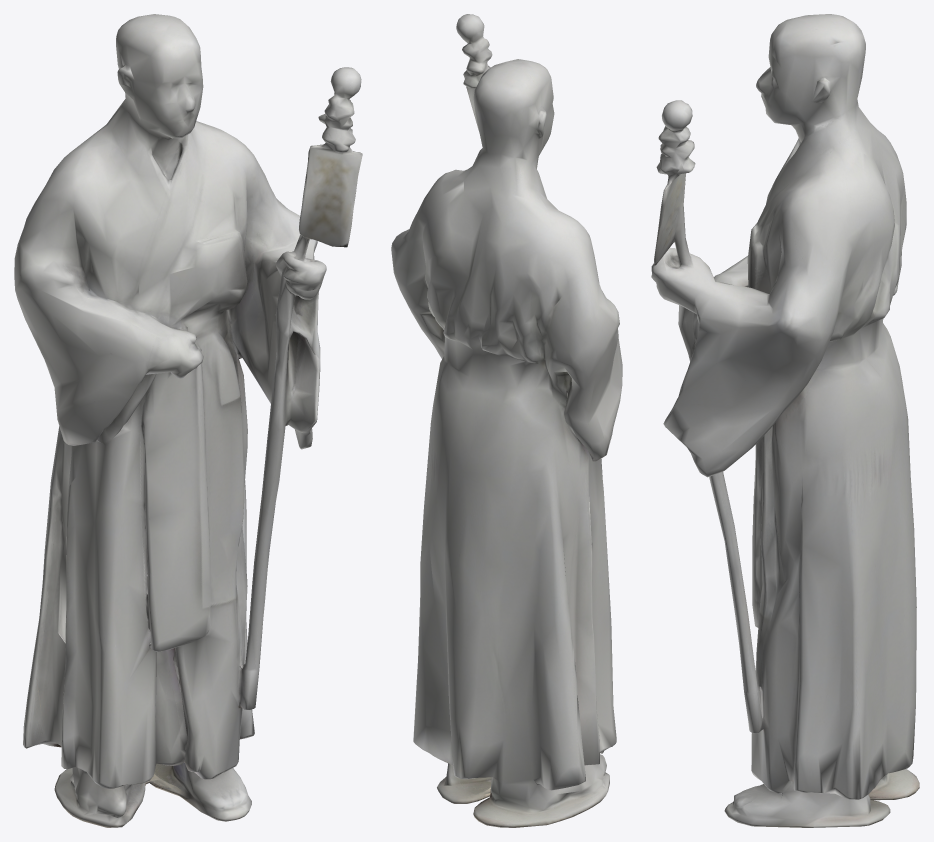
File: Bishop.fbx
3 renders of one model, left to right at view 1: azimuth 30°, elevation 25°; view 2: azimuth 150°, elevation 25°; view 3: azimuth 270°, elevation 25°, orthographic. The views are drawn at different scales.
Parts seen in each view (by area): view 1: Mesh_0; view 2: Mesh_0; view 3: Mesh_0.
Part boxes in pixels (x1,y1,x2,y2): Mesh_0: [14, 14, 362, 827]; Mesh_0: [391, 14, 622, 827]; Mesh_0: [651, 14, 919, 827].
Size of the model in its own units: 72.61 by 200 by 62.37.
Materials: 1 (1 with a texture image).
